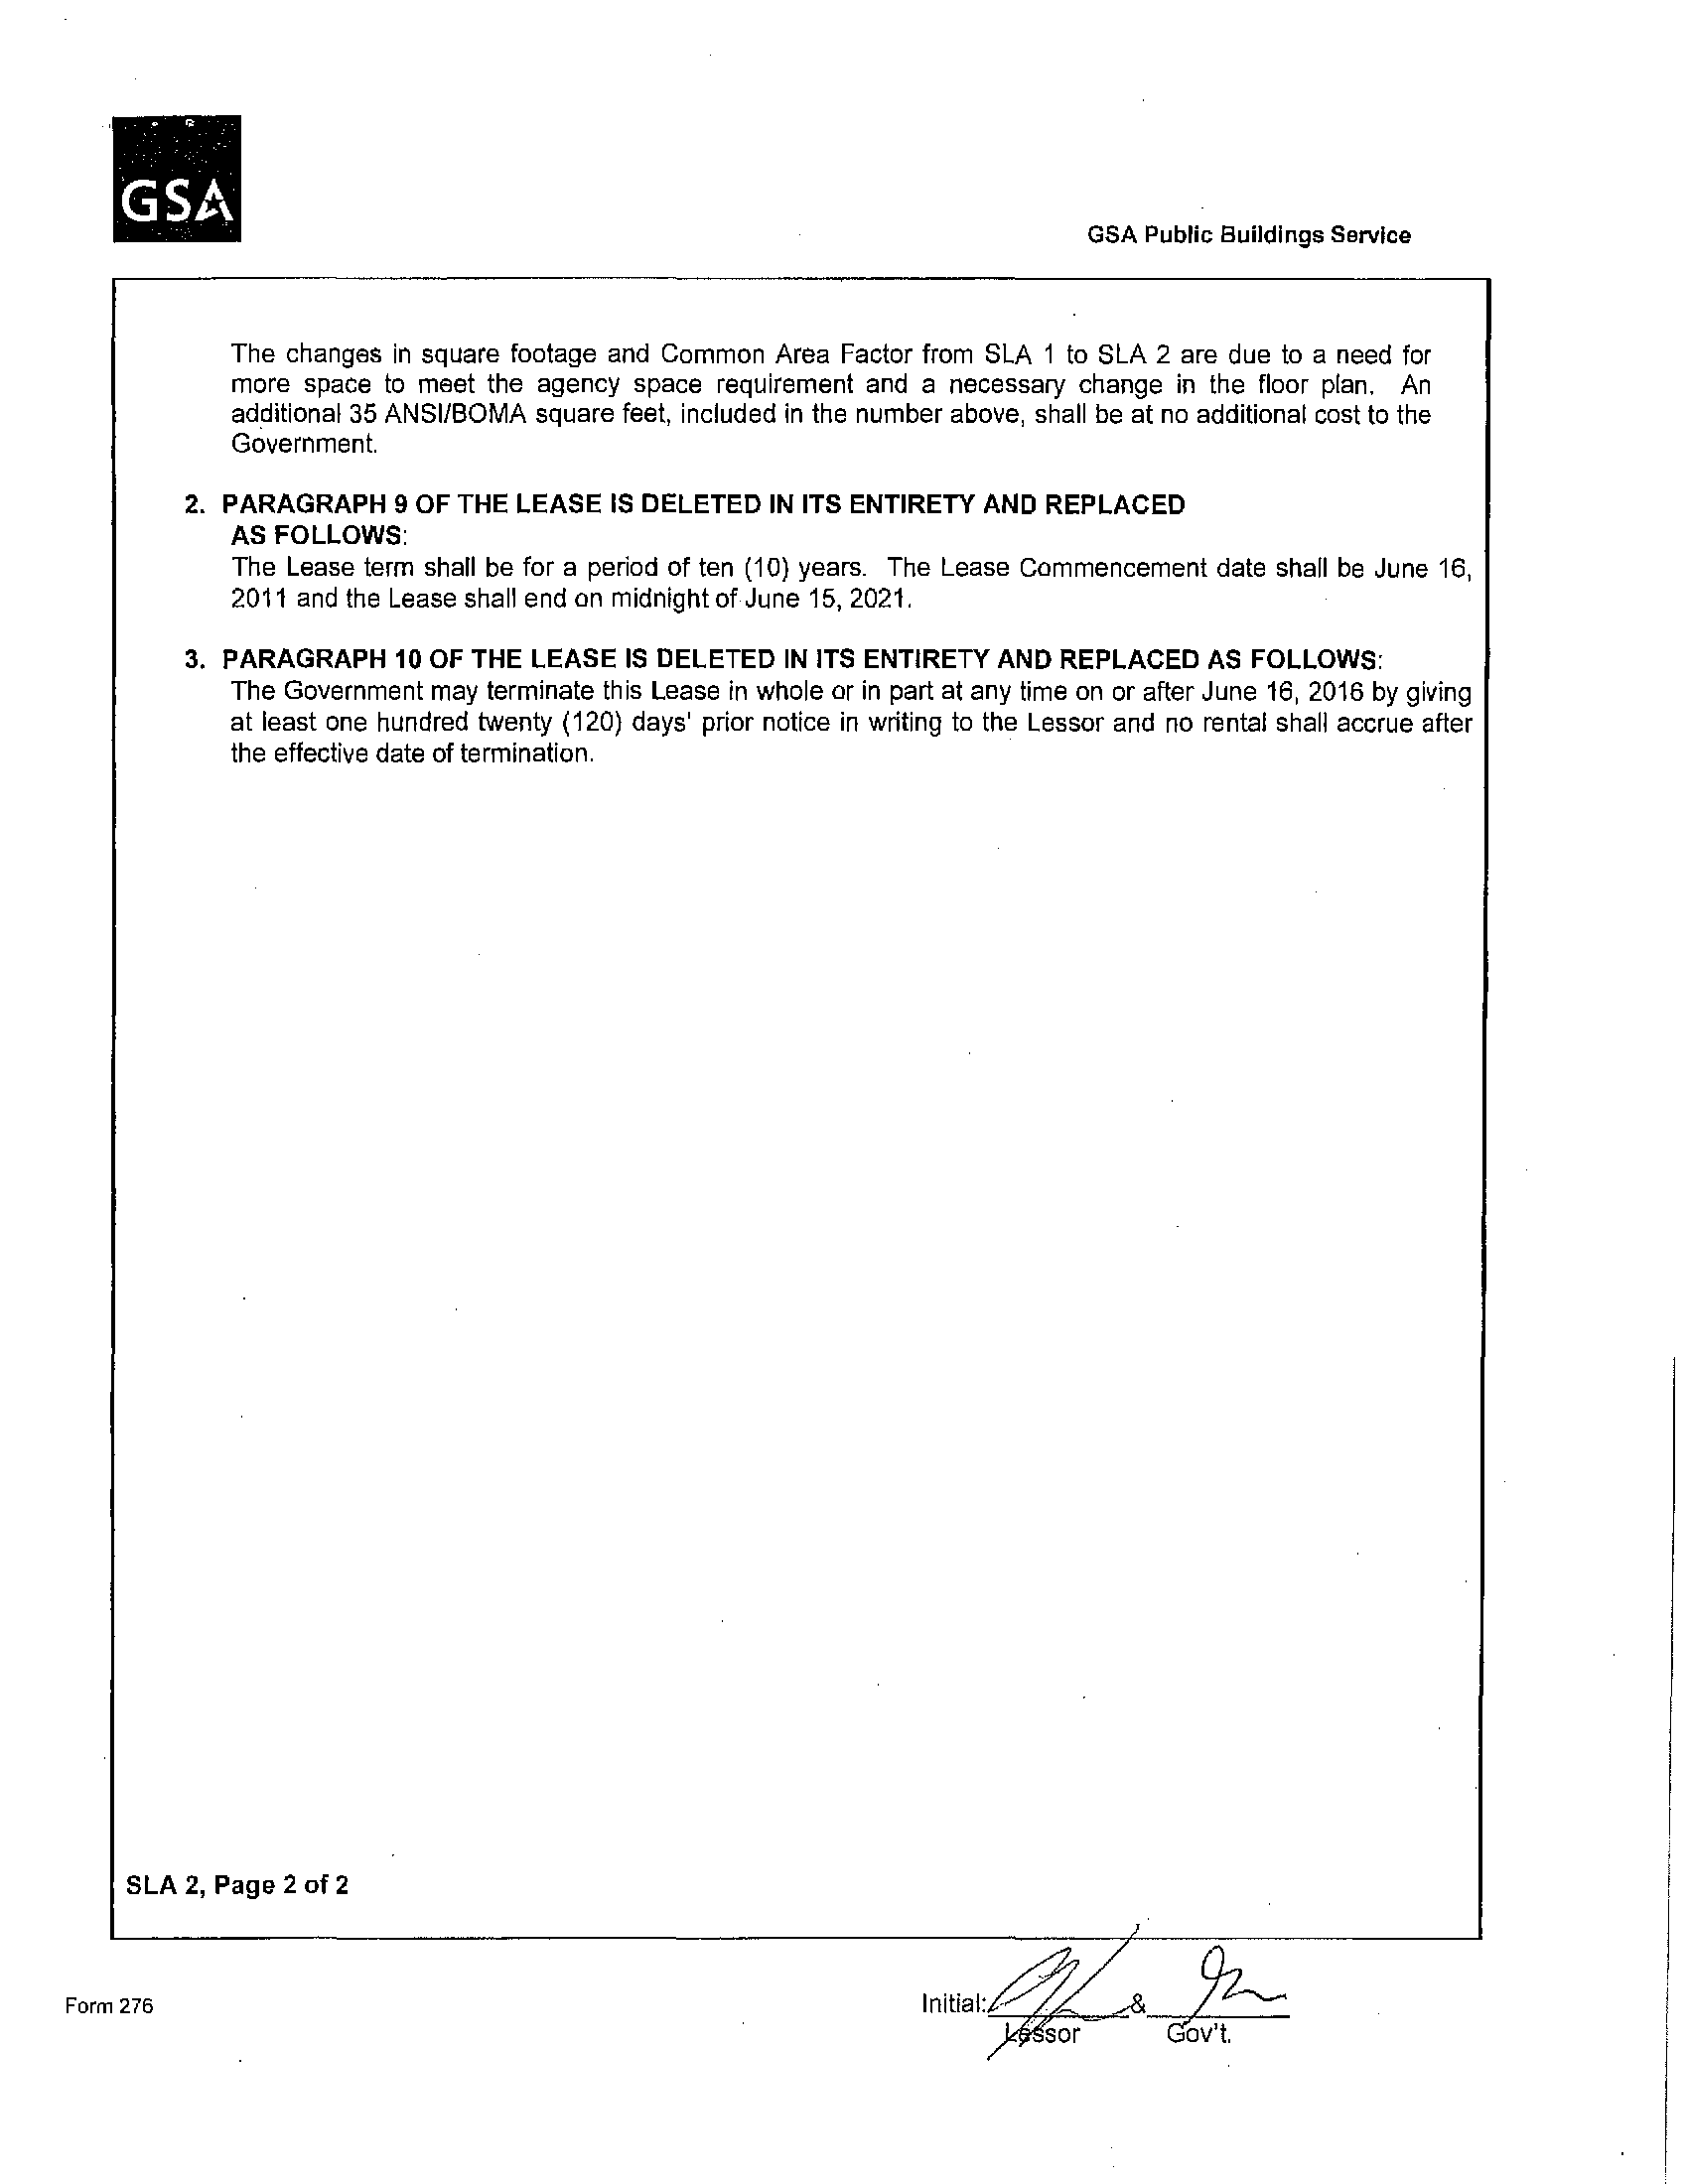handwritten: (1160, 1943, 1301, 2014), (991, 1941, 1126, 2007)
